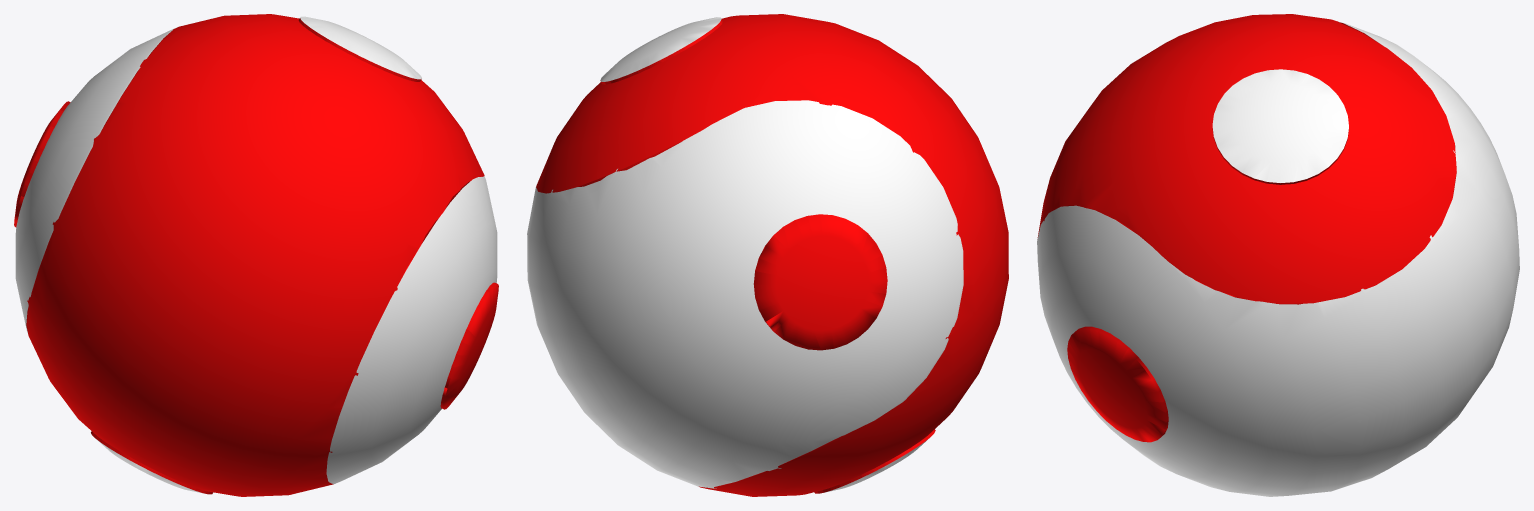
The model's file is yinyang_jade_red.obj.
The picture shows the model from 3 angles, left to right: view 1: azimuth 30°, elevation 25°; view 2: azimuth 150°, elevation 25°; view 3: azimuth 270°, elevation 25°; orthographic projection.
Visible parts, largest first — view 1: SphereDark, SphereLight, eyeDark, eyeLight; view 2: SphereLight, SphereDark, eyeDark, eyeLight; view 3: SphereLight, SphereDark, eyeLight, eyeDark.
Boxes of the visible parts, box(x1,y1,x2,y2) form: SphereDark: box(27, 14, 484, 496); SphereLight: box(15, 27, 497, 483); eyeDark: box(14, 101, 498, 409); eyeLight: box(91, 16, 421, 494); SphereLight: box(527, 100, 963, 488); SphereDark: box(536, 14, 1008, 496); eyeDark: box(753, 214, 887, 350); eyeLight: box(600, 17, 935, 493); SphereLight: box(1037, 22, 1519, 496); SphereDark: box(1037, 14, 1456, 304); eyeLight: box(1212, 69, 1348, 184); eyeDark: box(1067, 279, 1302, 442).
Size of the model in its own units: 2 by 2 by 2.
